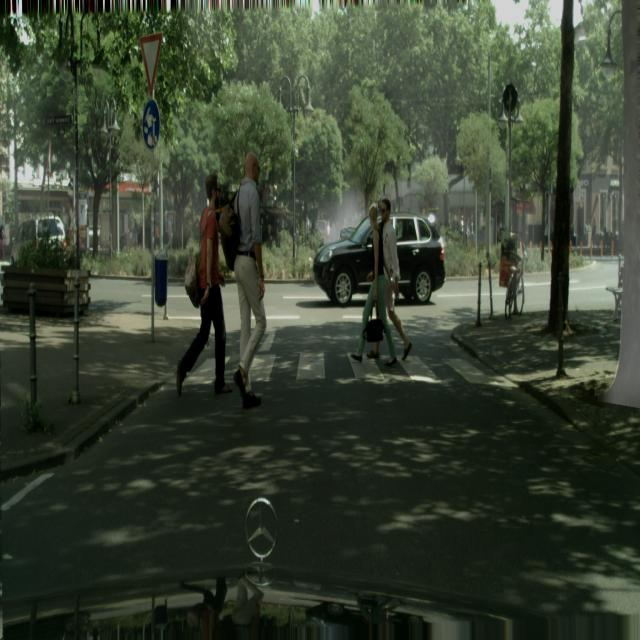bus: (178, 172, 232, 398), (232, 150, 267, 409), (352, 199, 396, 366), (380, 198, 412, 364), (467, 216, 474, 251)
person: (312, 211, 445, 309), (0, 214, 90, 309)
truck: (503, 240, 527, 318)
